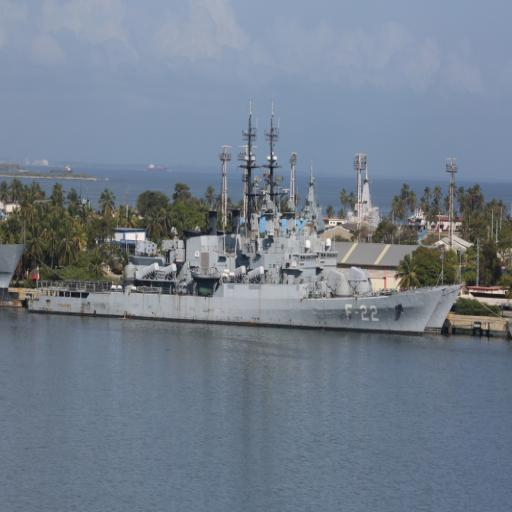Fragata: (23, 106, 448, 341)
